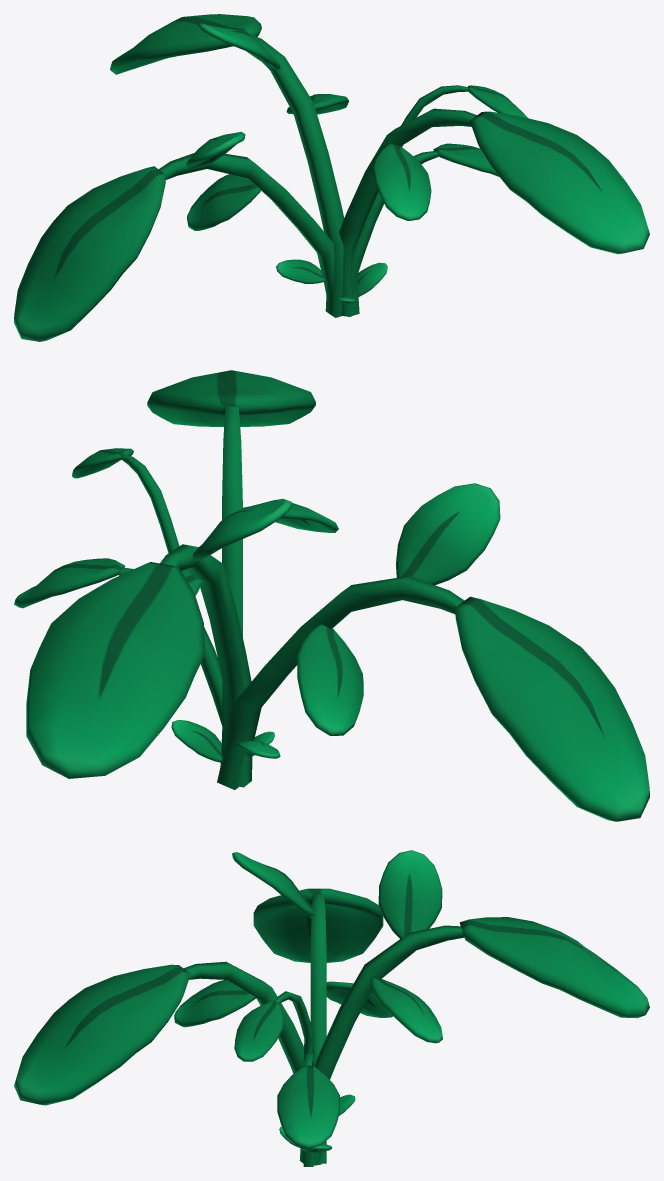
The model's file is Veg_patata_M.fbx.
The picture shows the model from 3 angles, top to bottom: view 1: azimuth 30°, elevation 25°; view 2: azimuth 150°, elevation 25°; view 3: azimuth 270°, elevation 25°; orthographic projection. The views are drawn at different scales.
Visible parts, largest first — view 1: Plane.005; view 2: Plane.005; view 3: Plane.005.
Part boxes in pixels (bbox=[...]): Plane.005: bbox=[14, 14, 649, 341]; Plane.005: bbox=[14, 370, 649, 821]; Plane.005: bbox=[14, 850, 649, 1166].
Size of the model in its own units: 18.61 by 8.72 by 16.44.
